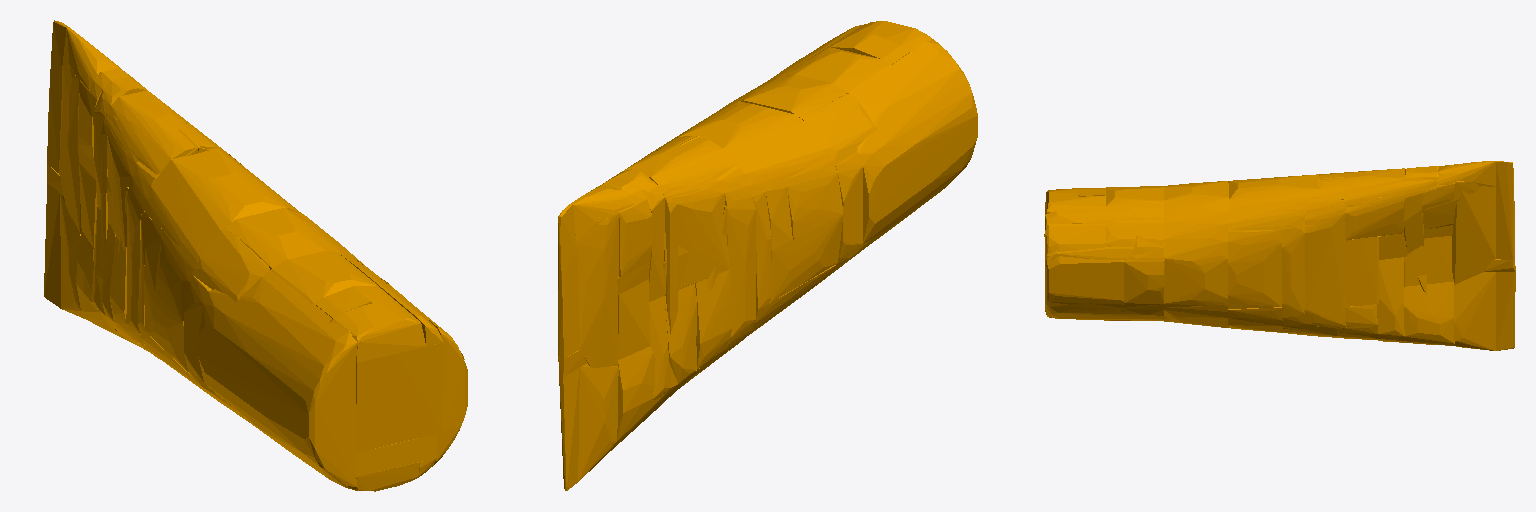
The robot description file, URDF, robot "tube-kiwi":
<?xml version="1.0" ?>
<robot name="tube-kiwi">
  <link name="baseLink">
    <contact>
      <lateral_friction value="1.0"/>
      <inertia_scaling value="3.0"/>
    </contact>
    <inertial>
      <origin rpy="0 0 0" xyz="0.000 0.000 0.000"/>
       <mass value=".1"/>
       <inertia ixx="1" ixy="0.0" ixz="0.0" iyy="1" iyz="0.0" izz="1"/>
    </inertial>
    <visual>
      <origin rpy="0 0 0" xyz="0 0 0"/>
      <geometry>
        <mesh filename="tube/tube-kiwi.obj" scale="1.0 1.0 1.0"/>
      </geometry>
    </visual>
    <collision>
      <origin rpy="0 0 0" xyz="0 0 0"/>
      <geometry>
        <mesh filename="../collision/tube/tube-kiwi.obj" scale="1.0 1.0 1.0"/>
      </geometry>
    </collision>
  </link>
</robot>
        

--- Facts derived from the render (not from the file) ---
Views: 3 orthographic renders of the robot side by side, from view 1: azimuth 30°, elevation 25°; view 2: azimuth 150°, elevation 25°; view 3: azimuth 270°, elevation 25°.
Model tube-kiwi with 1 links and 0 joints (none), rooted at baseLink, posed every joint at zero.
Links seen in each view (by area): view 1: baseLink; view 2: baseLink; view 3: baseLink.
Boxes of the visible links, x1,y1,x2,y2 form: baseLink: (44, 20, 467, 491); baseLink: (558, 21, 977, 490); baseLink: (1044, 161, 1515, 350).
Bounding box of the posed robot: 0.0336 × 0.1212 × 0.0544 m (x, y, z).
Meshes: 1 distinct files referenced, 1 mesh visuals loaded (1 OBJ).